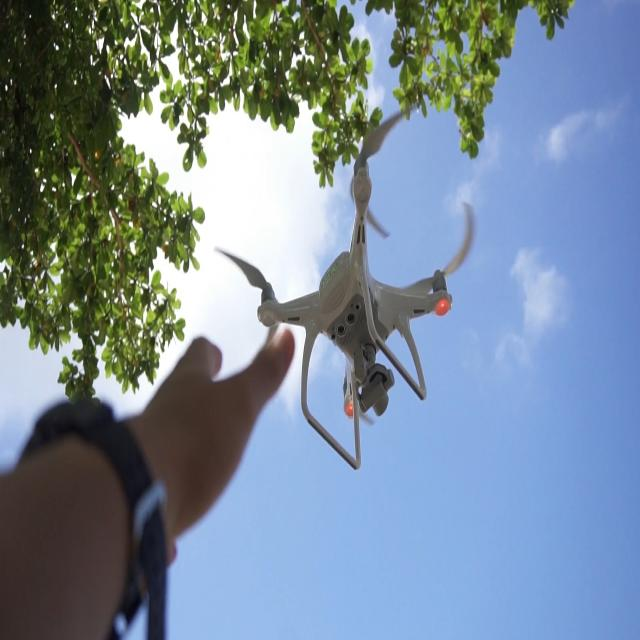Drone: (245, 154, 501, 473)
